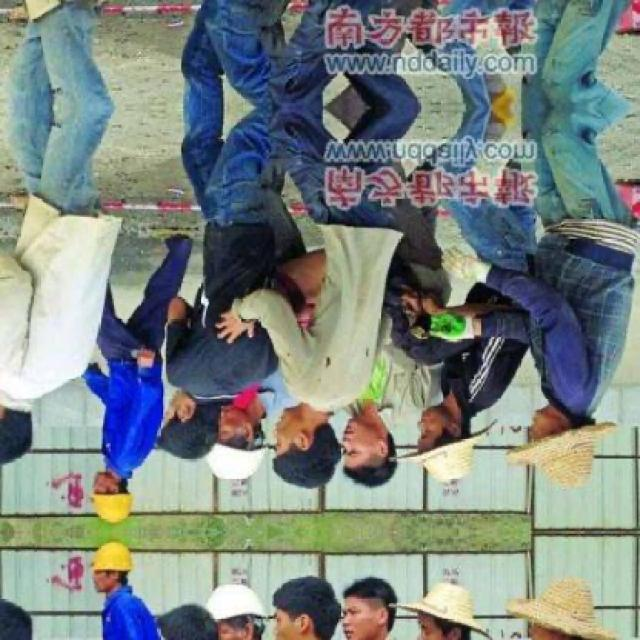sin casco: (143, 375, 259, 466), (331, 416, 390, 501), (264, 418, 327, 482), (3, 425, 17, 468)
